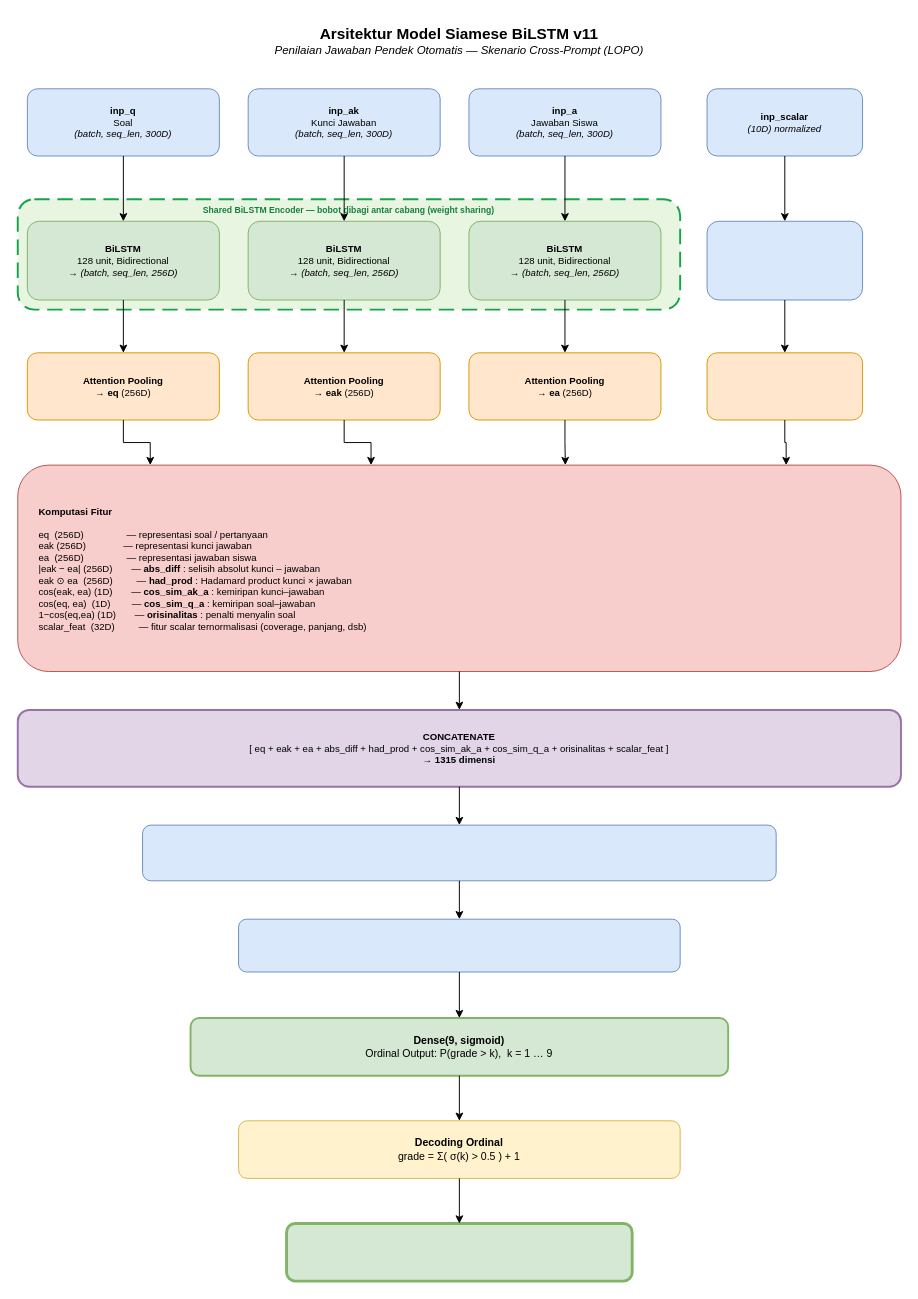
The diagram is 918 pixels wide and 1299 high, and some of its shapes have lost their labels. The shapes that lost their labels are listed below. From the top down, each one's centre as x and y in pixels, then its label:
At (x=784, y=260): "Dense(32, ReLU) → (batch, 32D)".
At (x=784, y=386): "scalar_feat (32D)".
At (x=459, y=852): "Dense(512, ReLU) → BatchNorm → Dropout(0.40)".
At (x=459, y=945): "Dense(64, ReLU)".
At (x=459, y=1252): "Prediksi Skor: 1 – 10".
